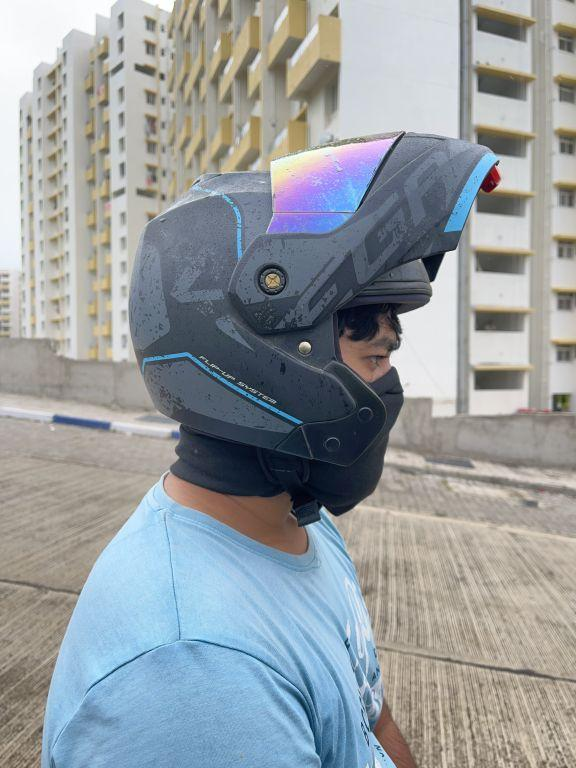helmet: (125, 122, 505, 562)
